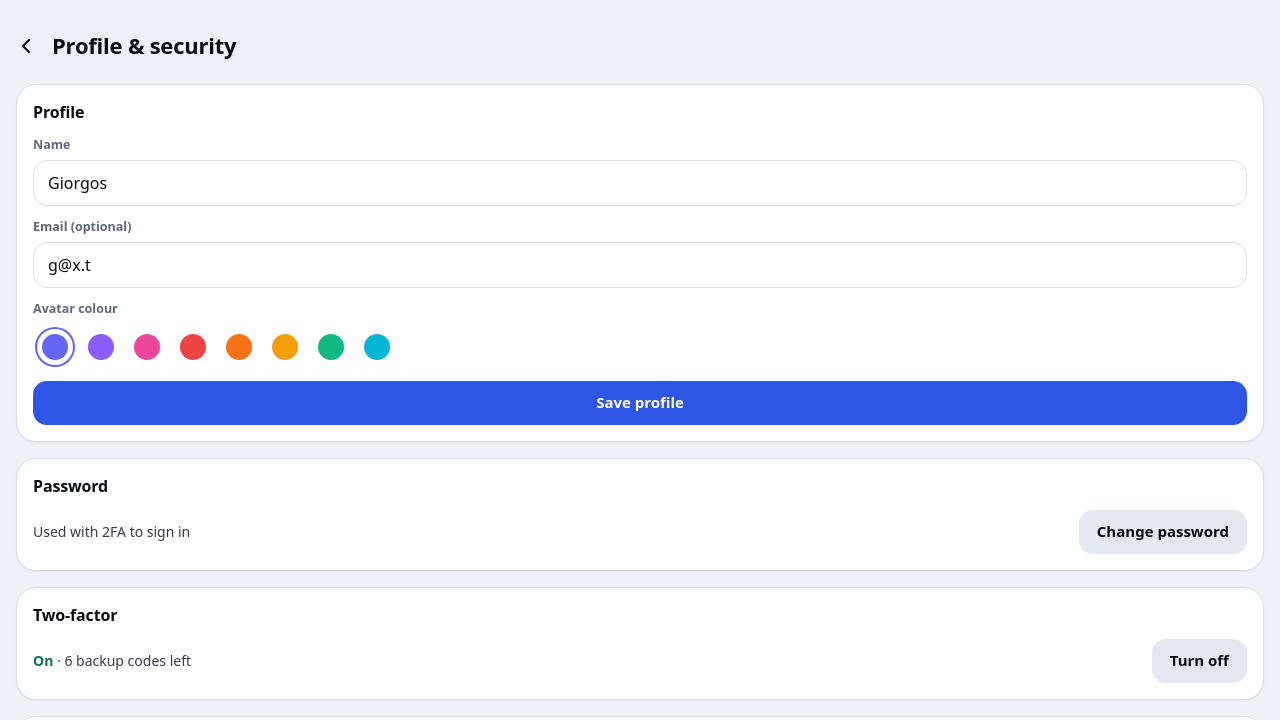
it: Profile › checks the new password length before sending
Click the button "Change password" at [1163, 532], box [1079, 510, 1247, 554]
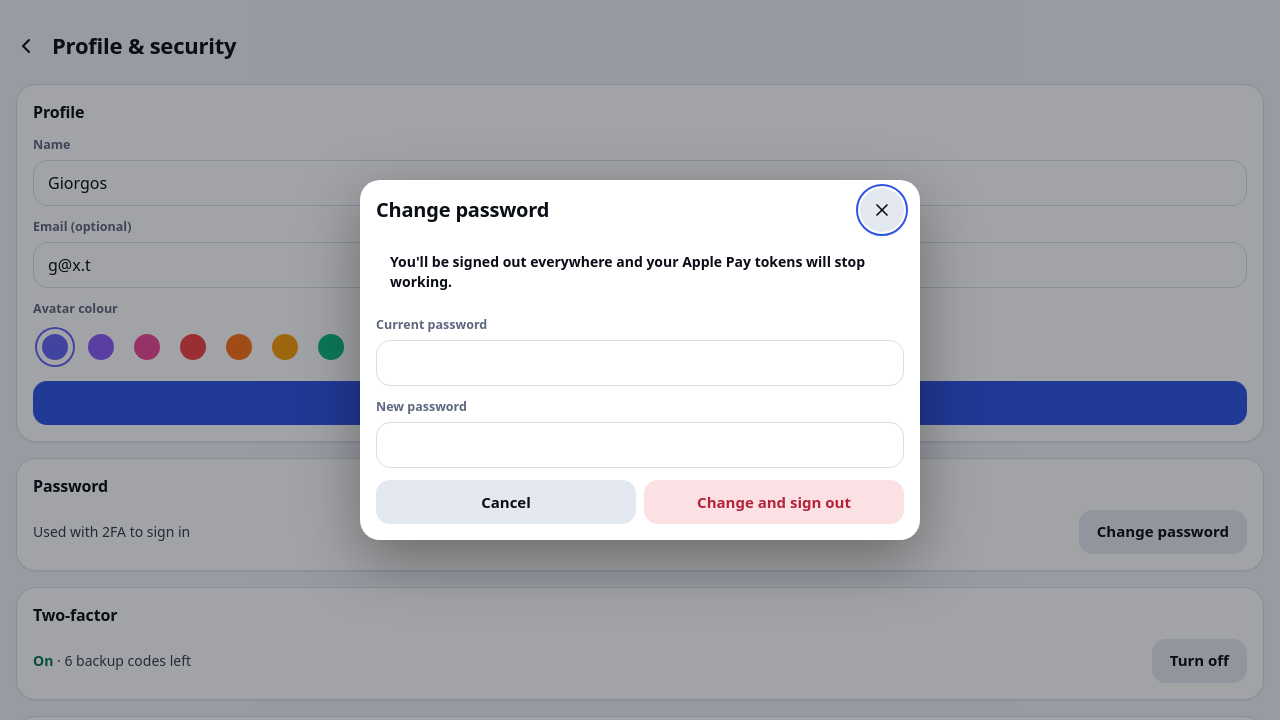
Type "old-password-123" into the password field labelled "Current password" at [640, 363], box [376, 340, 904, 386]
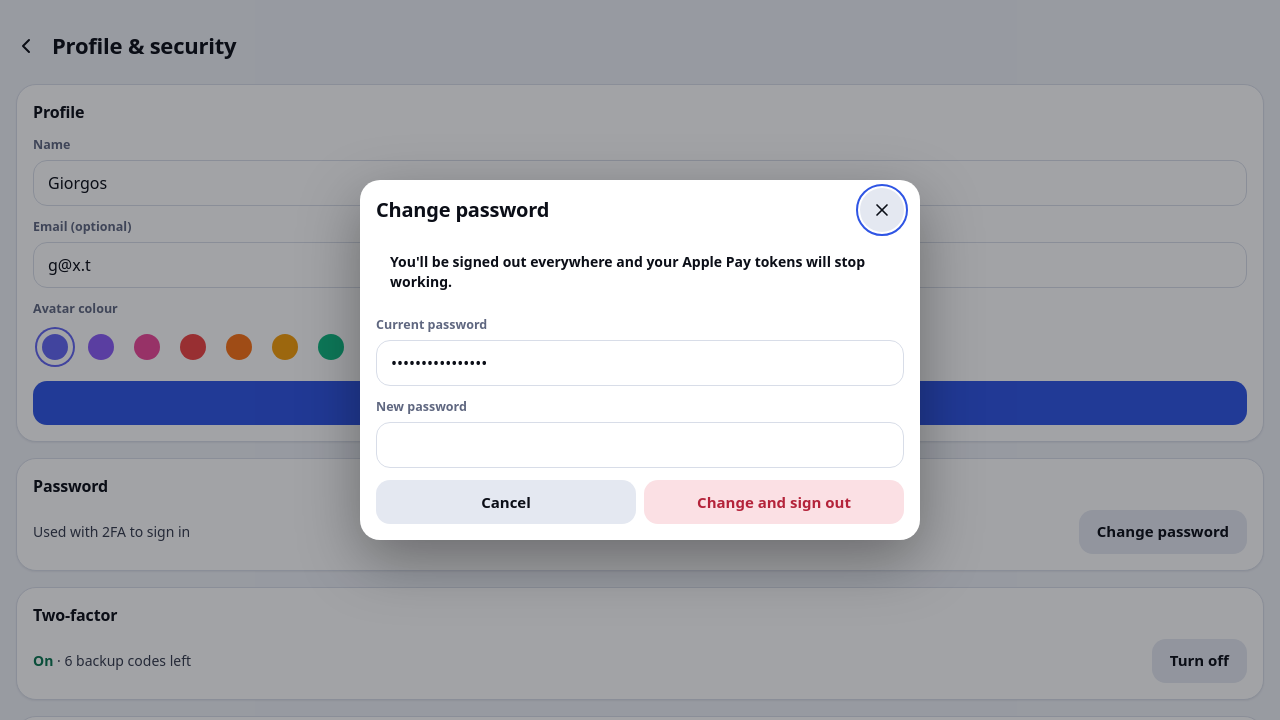
Type "short" into the password field labelled "New password" at [640, 445], box [376, 422, 904, 468]
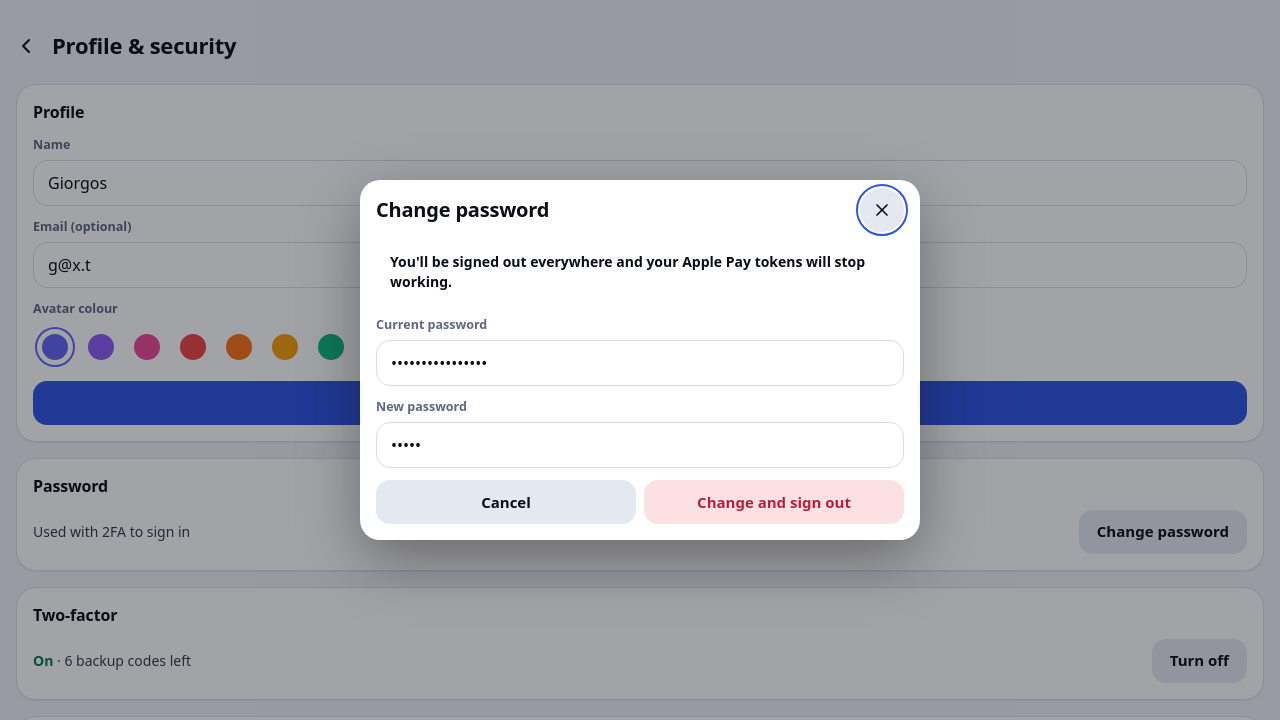
Click the button "Change and sign out" at [774, 502], box [644, 480, 904, 524]
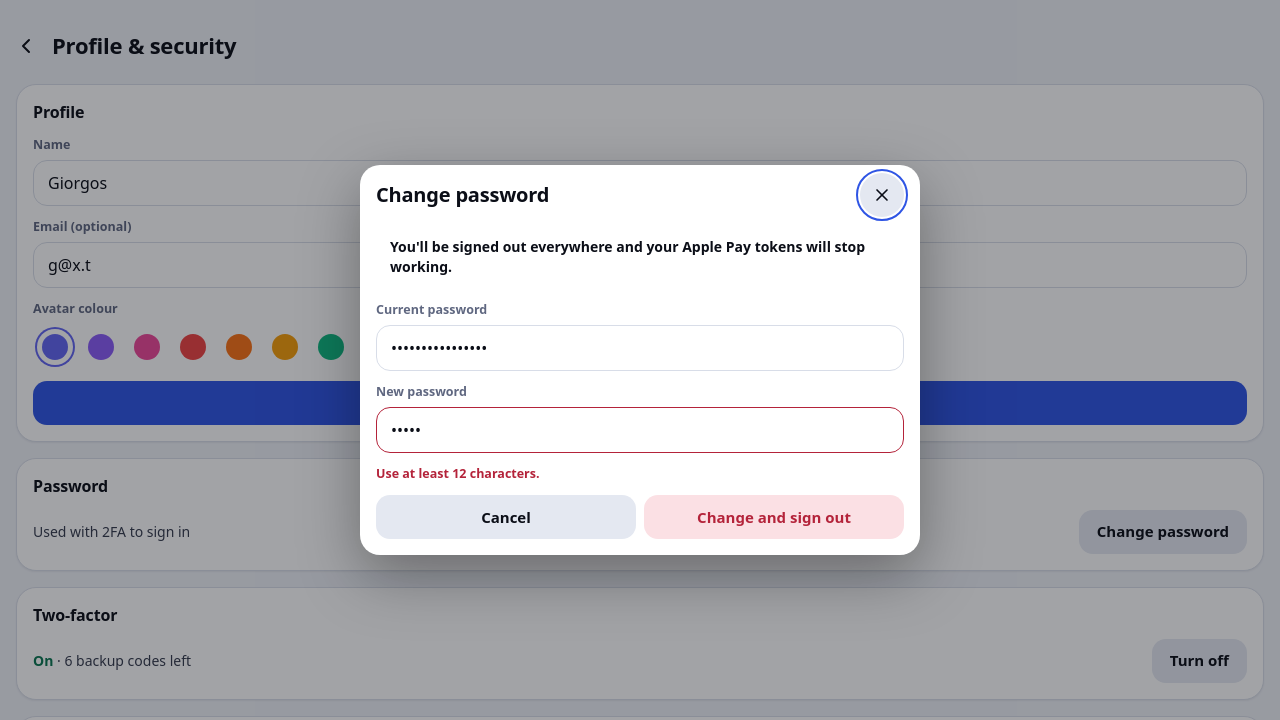
Check: the text "Use at least 12 characters." is shown, box [376, 465, 540, 482]
